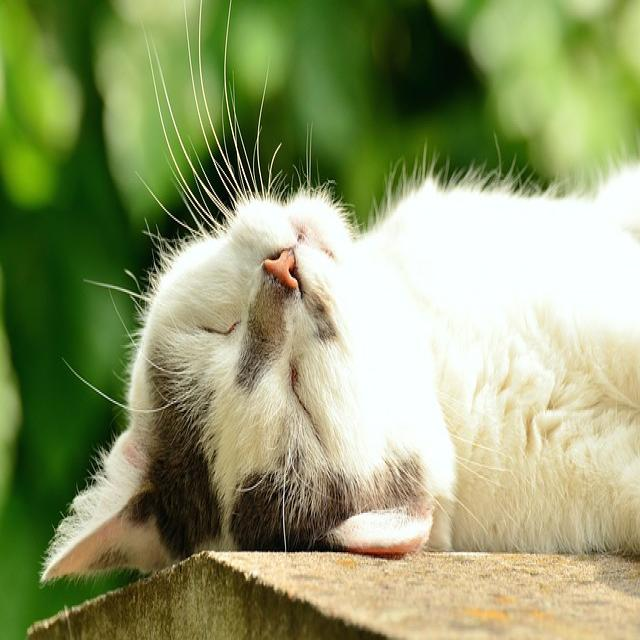animal: (78, 108, 640, 582)
